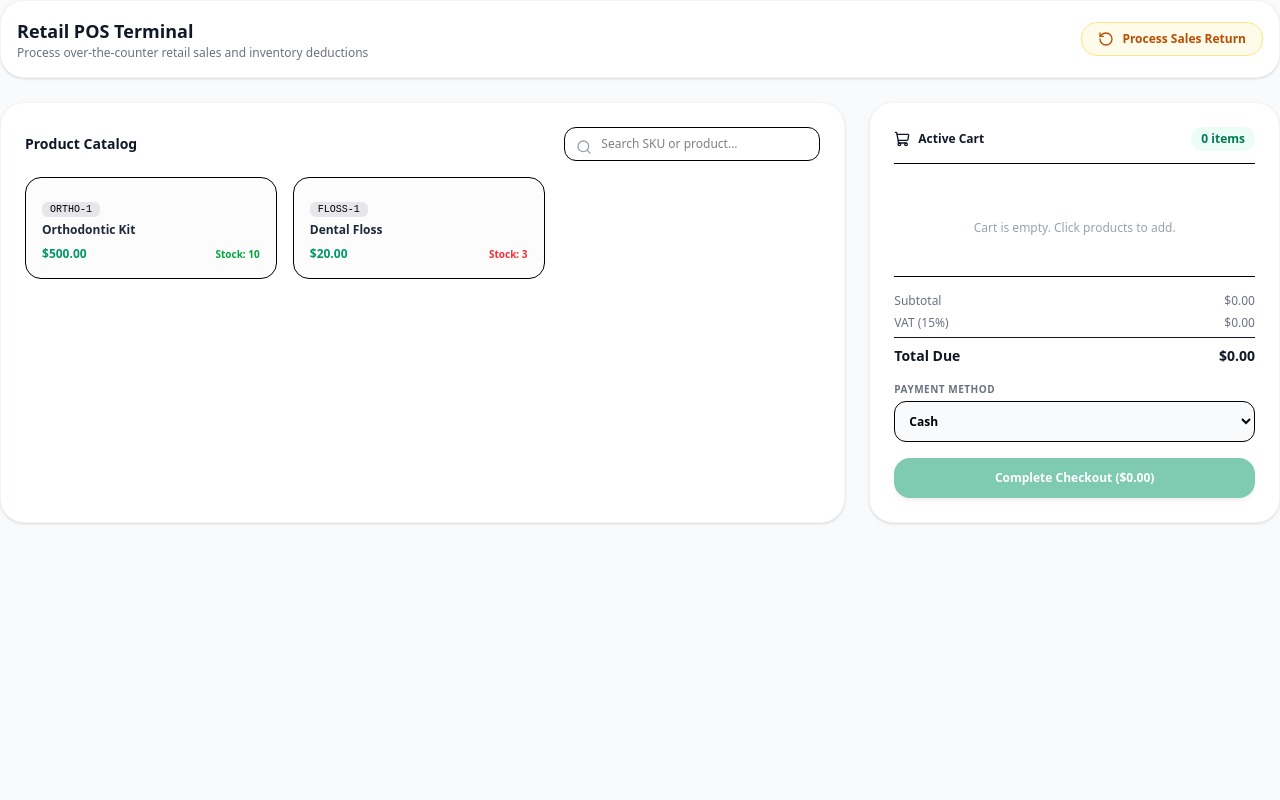
it: RetailPOSView (FR-SAL-001) › posts the sale on checkout and shows the receipt number
Click the heading "Orthodontic Kit". click: x=89, y=230
box: [42,221,135,238]
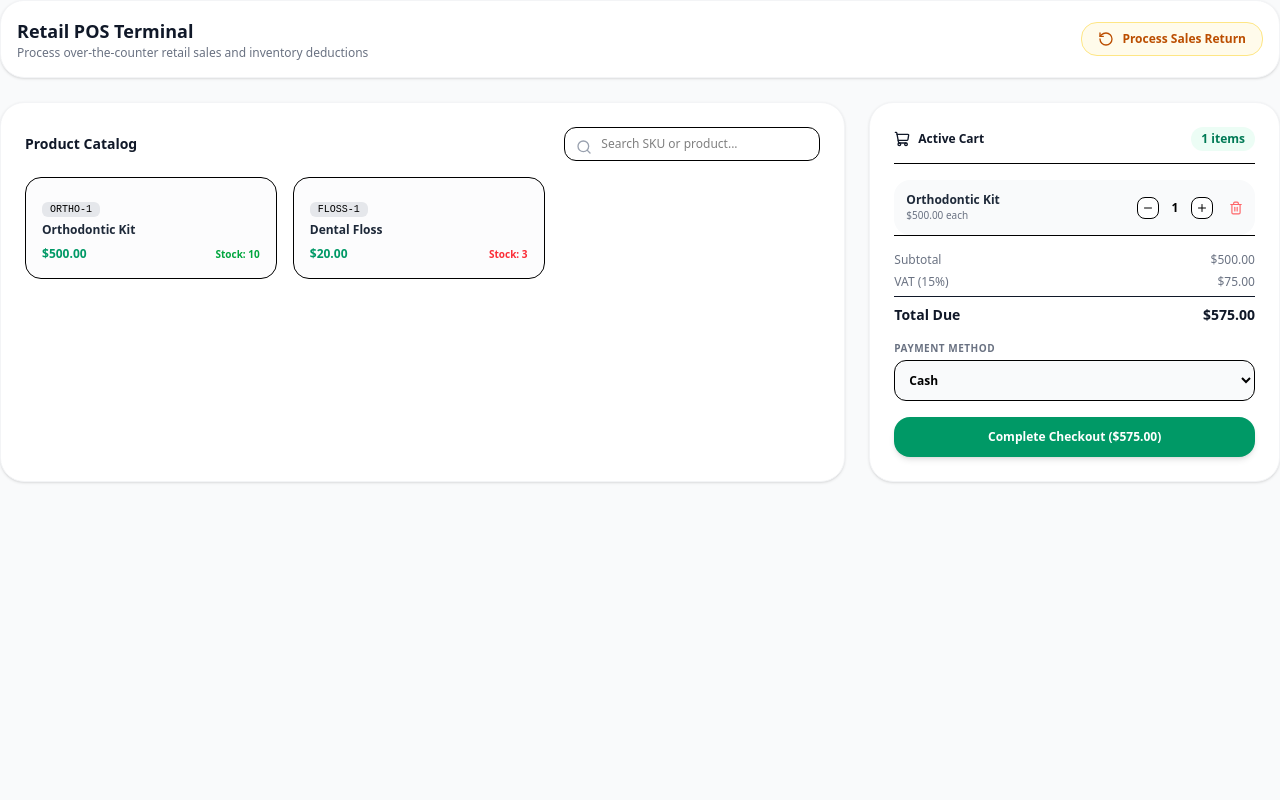
Click the button "Complete Checkout ($575.00)". click: x=1075, y=437
box: [894,417,1255,457]
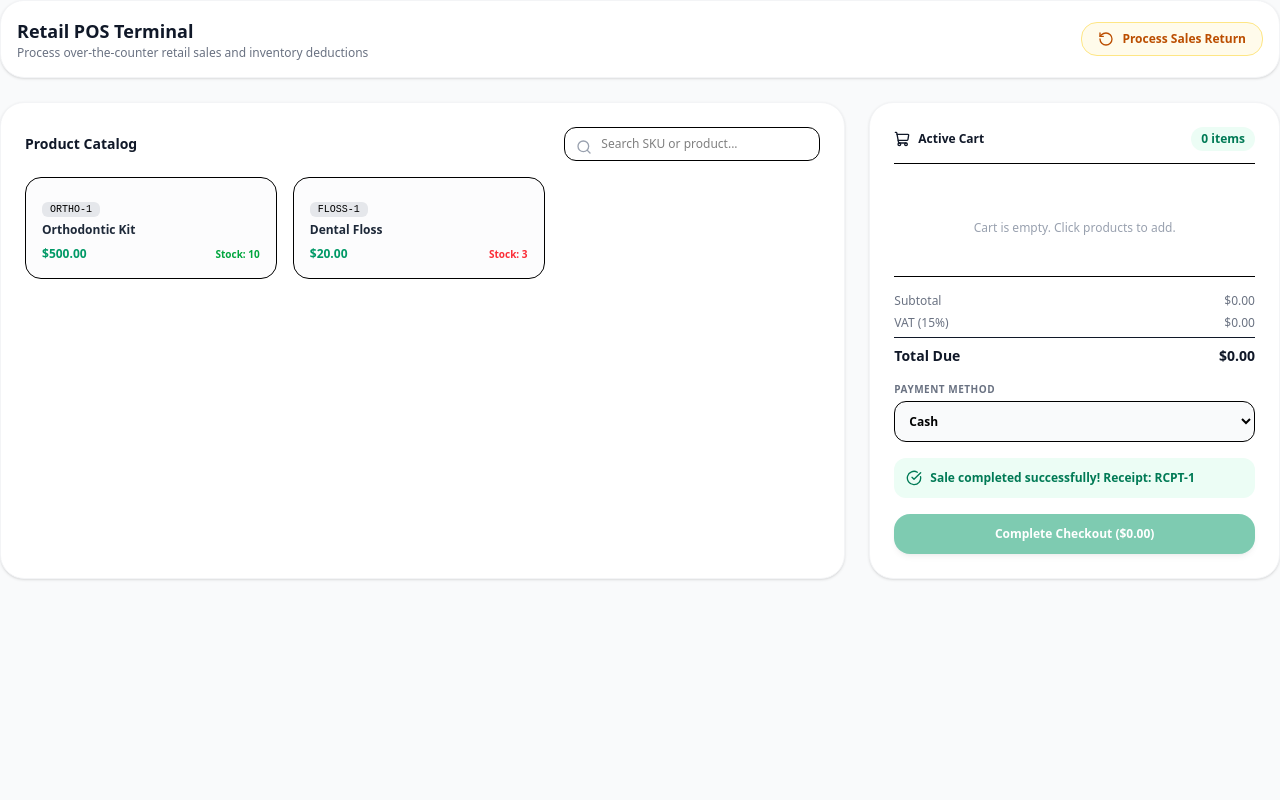
Result: the text "Sale completed successfully! Receipt: RCPT-1" is shown at [894,458,1255,498]
Result: the text "Cart is empty. Click products to add." is shown at [974,219,1176,236]
